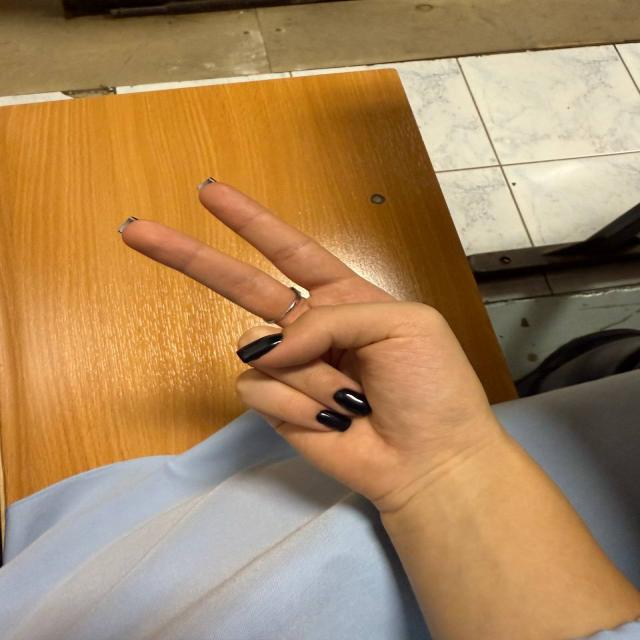k: (94, 164, 482, 478)
